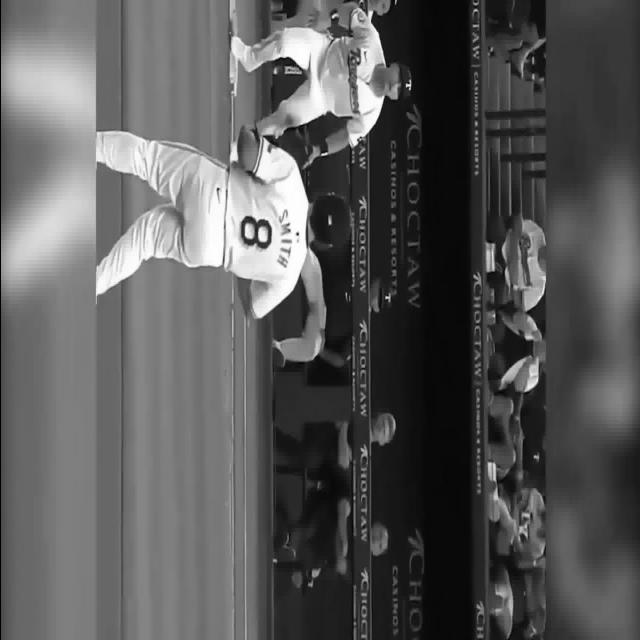shoe: (229, 34, 253, 72), (271, 338, 285, 368), (510, 49, 524, 79), (229, 35, 245, 61)
